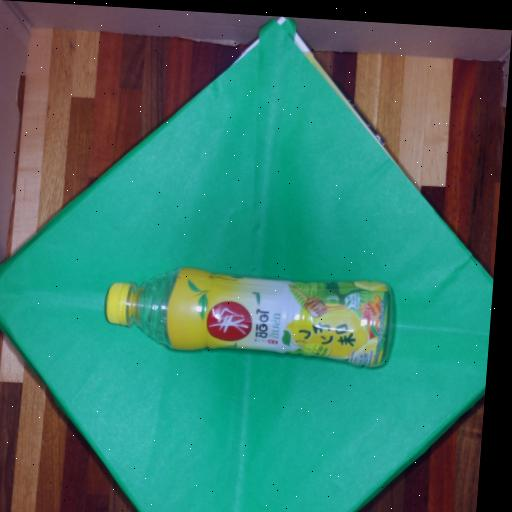bottle: (100, 259, 397, 373)
